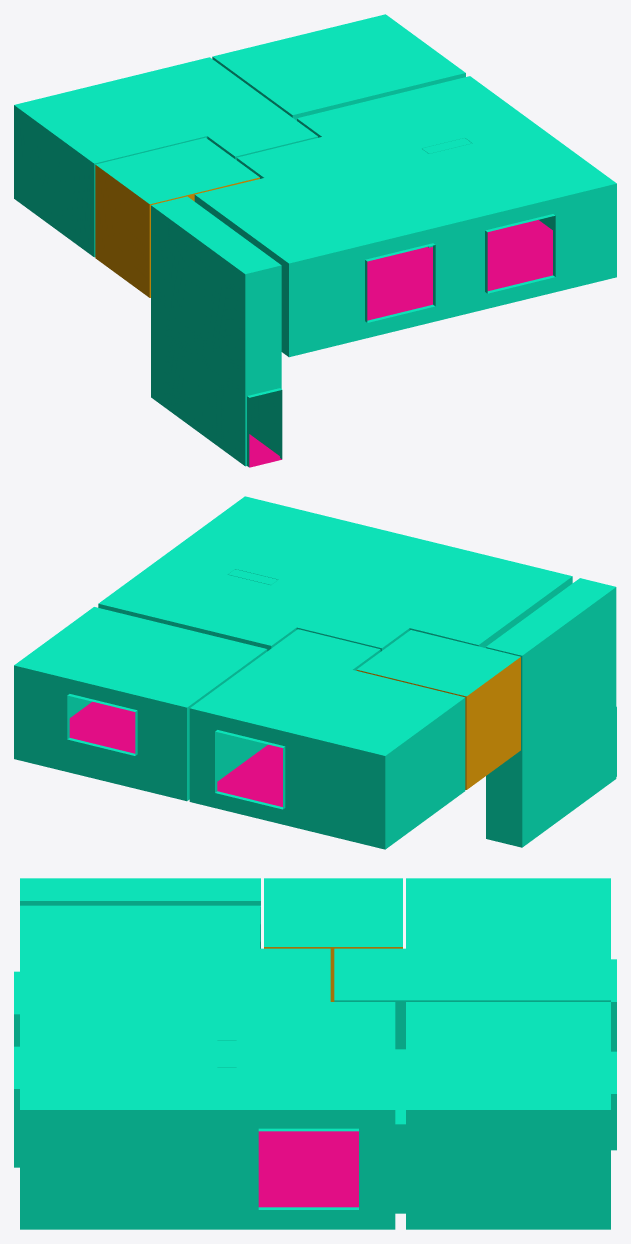
The model's file is Apartment_3.FBX.
The picture shows the model from 3 angles, top to bottom: view 1: azimuth 30°, elevation 25°; view 2: azimuth 150°, elevation 25°; view 3: azimuth 270°, elevation 25°; orthographic projection. The views are drawn at different scales.
Visible parts, largest first — view 1: Apartment_3; view 2: Apartment_3; view 3: Apartment_3.
Boxes of the visible parts, left/top/right/bottom form: Apartment_3: left=14, top=14, right=616, bottom=467; Apartment_3: left=14, top=496, right=616, bottom=849; Apartment_3: left=14, top=878, right=616, bottom=1229.
Bounding box in the file's own units: 1126 × 551 × 1225.
